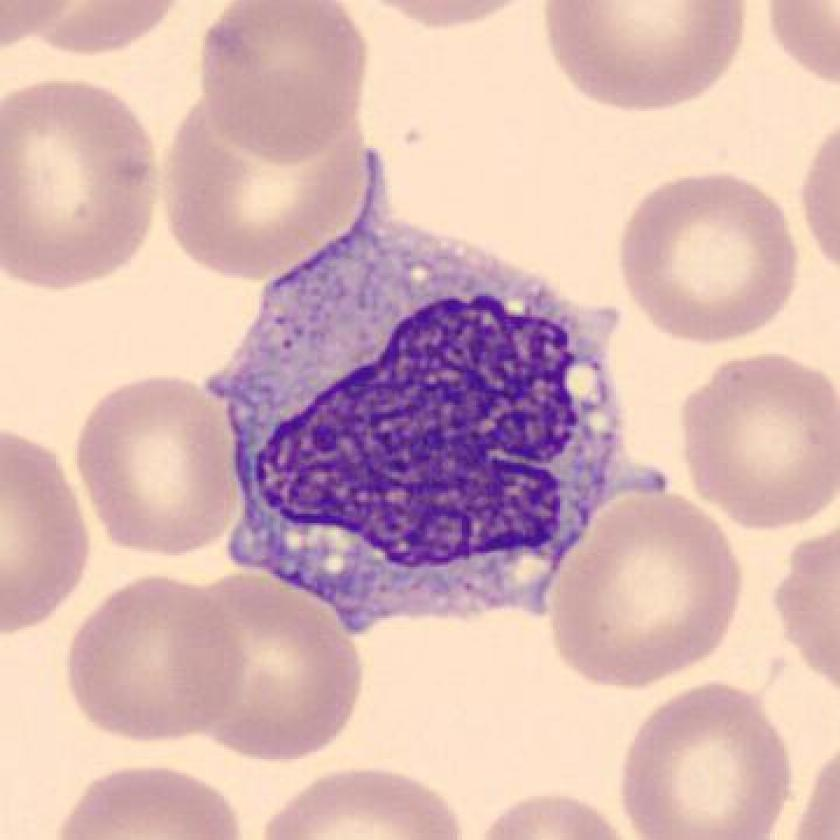monocyte: (179, 138, 683, 665)
